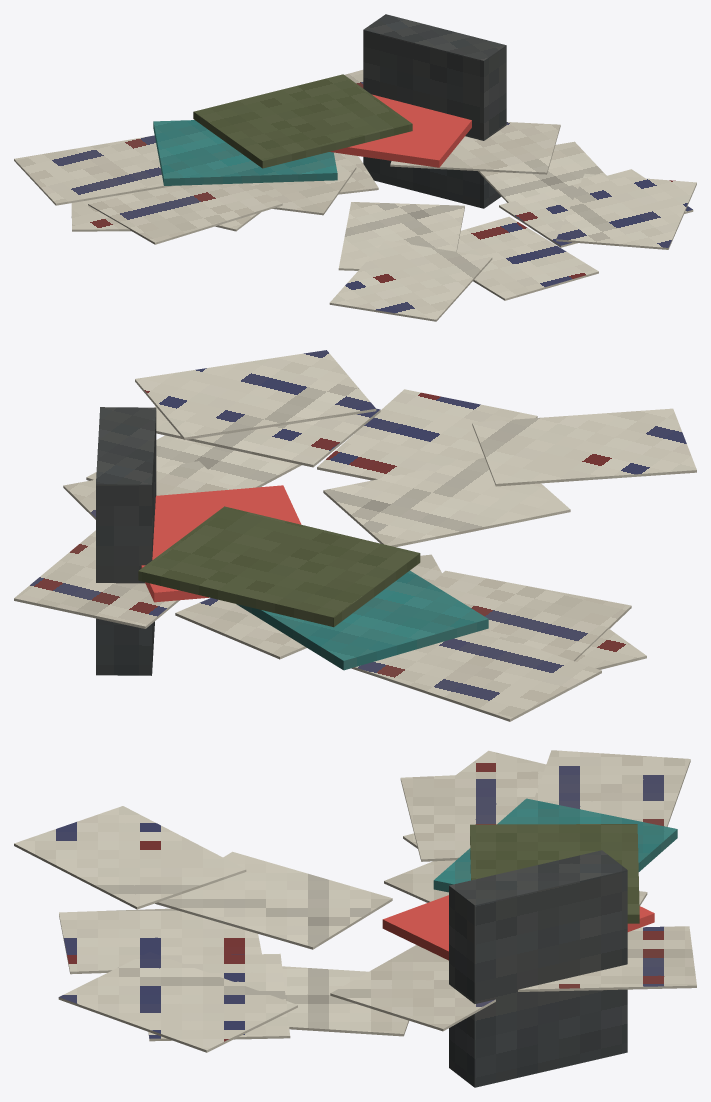
Rendered from paper_pile.glb.
The picture shows the model from 3 angles, top to bottom: view 1: azimuth 30°, elevation 25°; view 2: azimuth 150°, elevation 25°; view 3: azimuth 270°, elevation 25°; orthographic projection. The views are drawn at different scales.
Visible parts, largest first — view 1: body; view 2: body; view 3: body.
Part boxes in pixels (<box>): body: <box>14,14,696,321</box>; body: <box>14,350,696,721</box>; body: <box>14,750,696,1087</box>.
Bounding box in the file's own units: 1.08 × 0.3 × 1.02.
5 materials, 4 textured.
